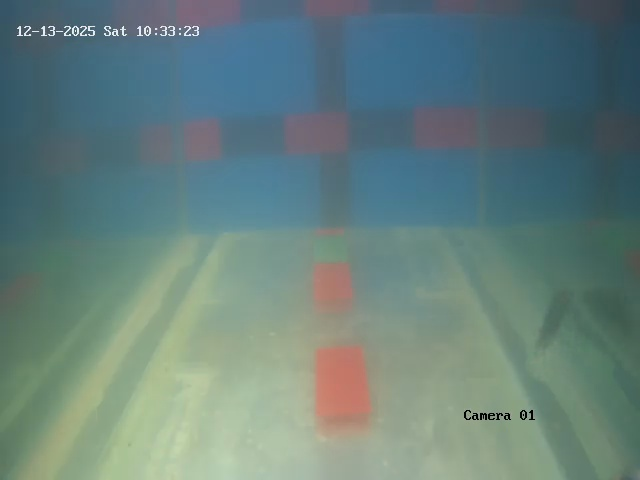fish: (524, 286, 578, 355)
